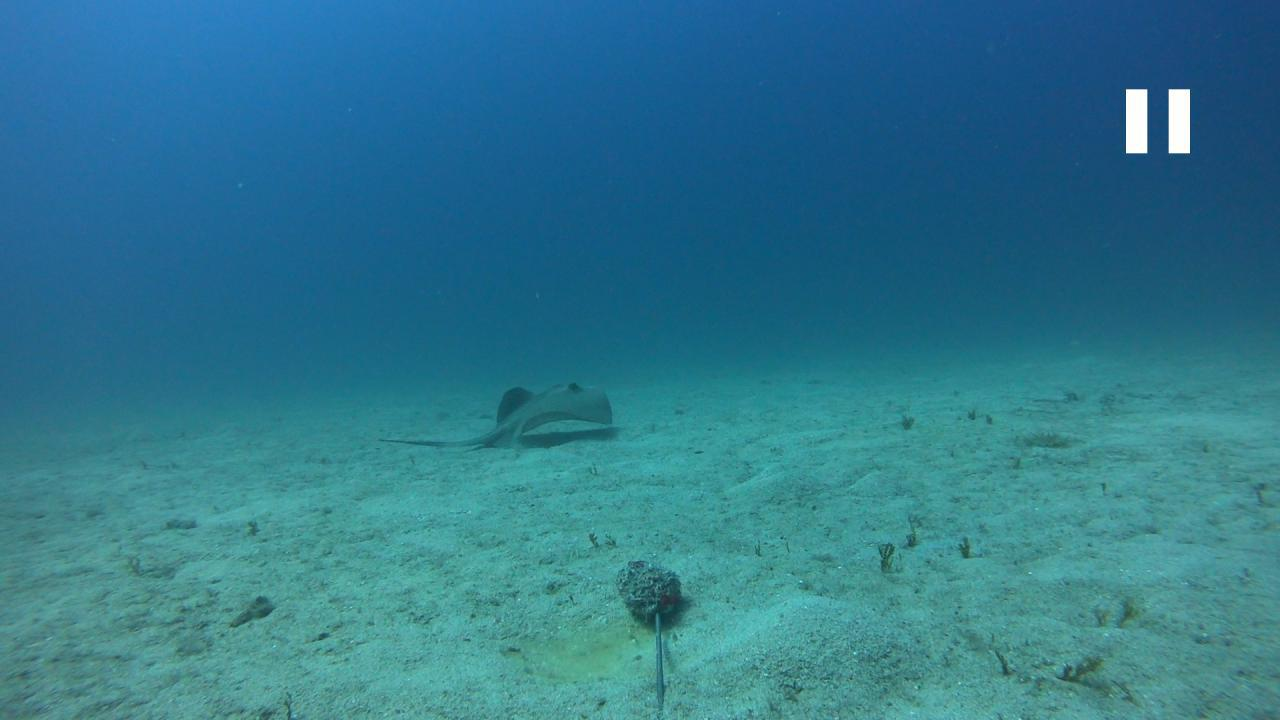dasyatis: (378, 379, 614, 450)
